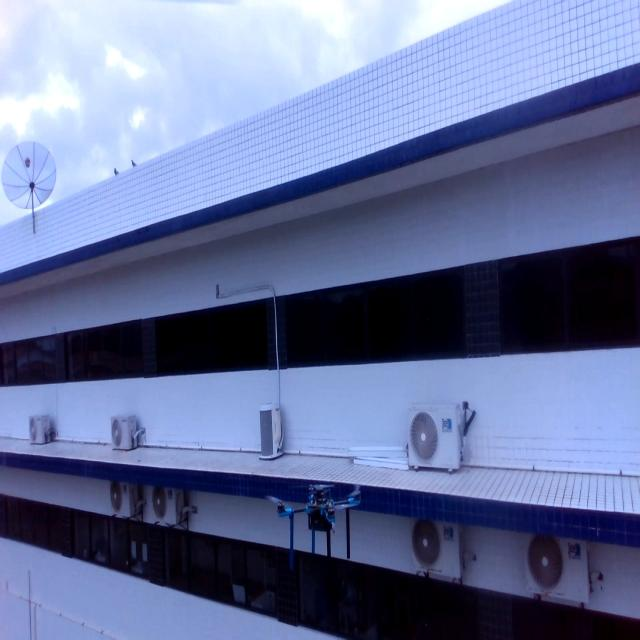-uav-: (257, 468, 378, 587)
